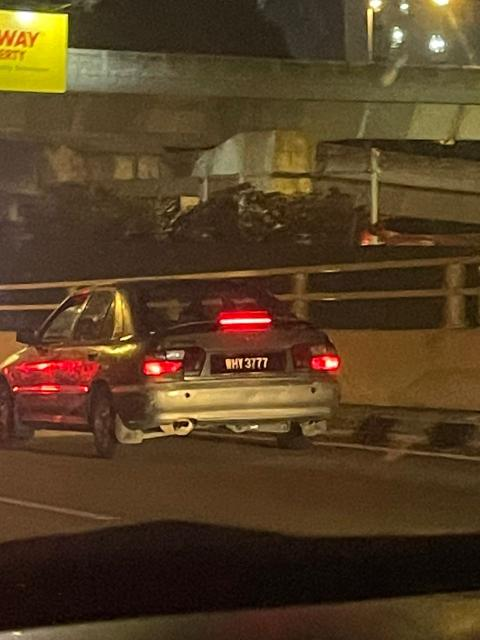License_Plate: (218, 350, 281, 376)
car: (1, 276, 345, 447)
